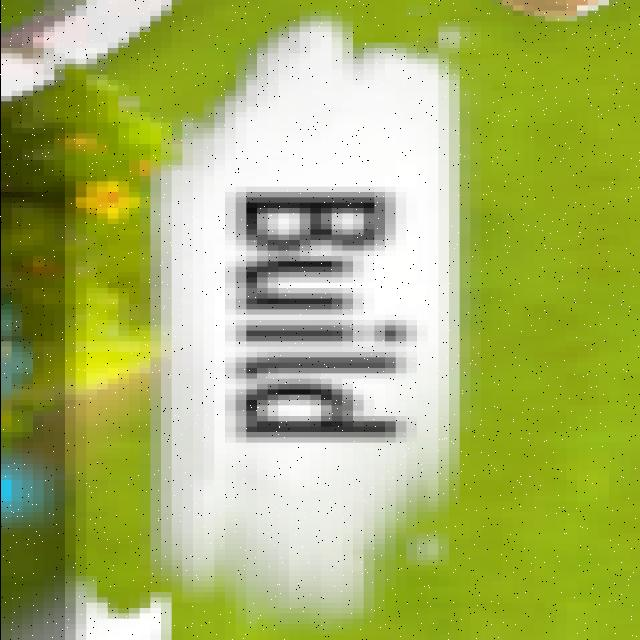build: (208, 178, 426, 458)
